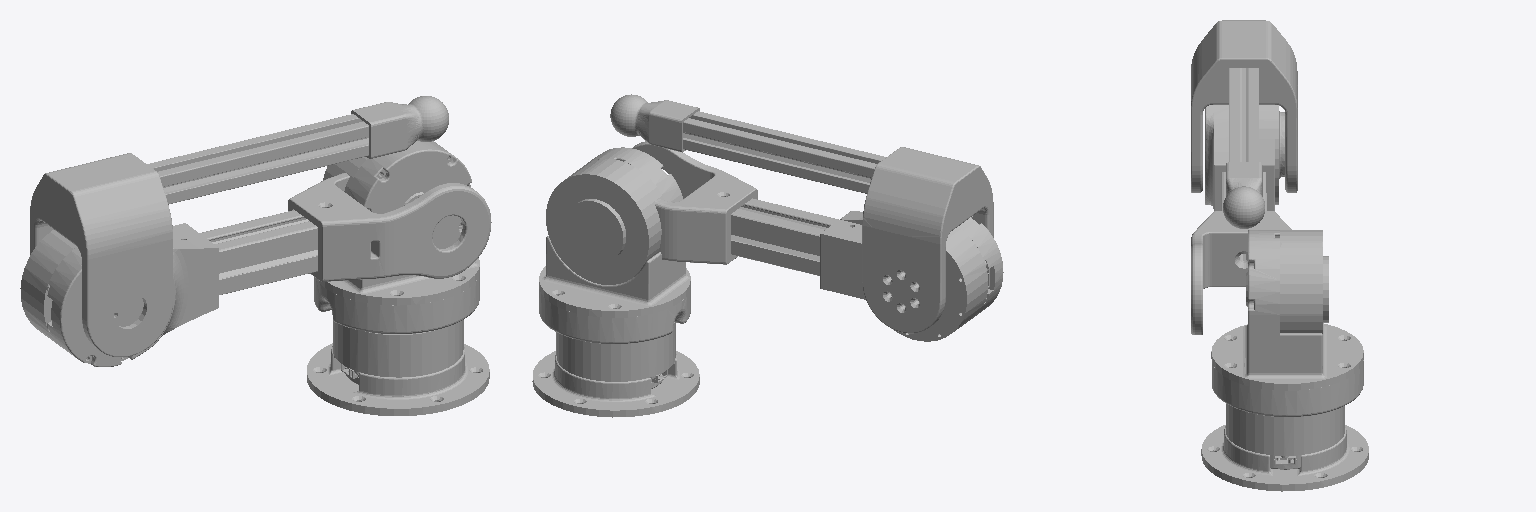
robot.urdf — RAVEN_reassembly:
<?xml version="1.0" encoding="utf-8"?>
<!-- This URDF was automatically created by SolidWorks to URDF Exporter! Originally created by Stephen Brawner (brawner@gmail.com) 
     Commit Version: 1.6.0-4-g7f85cfe  Build Version: 1.6.7995.38578
     For more information, please see http://wiki.ros.org/sw_urdf_exporter -->
<robot
  name="RAVEN_reassembly">
  <link
    name="base_link">
    <inertial>
      <origin
        xyz="0.0001453 -7.3232E-07 0.02219"
        rpy="0 0 0" />
      <mass
        value="0.24946" />
      <inertia
        ixx="0.00014181"
        ixy="6.28E-09"
        ixz="-2.6684E-07"
        iyy="0.00013613"
        iyz="1.232E-09"
        izz="0.00022186" />
    </inertial>
    <visual>
      <origin
        xyz="0 0 0"
        rpy="0 0 0" />
      <geometry>
        <mesh
          filename="../meshes/base_link.STL" />
      </geometry>
      <material
        name="">
        <color
          rgba="0.75294 0.75294 0.75294 1" />
      </material>
    </visual>
    <collision>
      <origin
        xyz="0 0 0"
        rpy="0 0 0" />
      <geometry>
        <mesh
          filename="../meshes/base_link.STL" />
      </geometry>
    </collision>
  </link>
  <link
    name="shoulder_link">
    <inertial>
      <origin
        xyz="0.00016679 -0.00027549 -0.023903"
        rpy="0 0 0" />
      <mass
        value="0.4346" />
      <inertia
        ixx="0.00030526"
        ixy="-2.0276E-10"
        ixz="2.2449E-07"
        iyy="0.00038654"
        iyz="2.4833E-05"
        izz="0.00039063" />
    </inertial>
    <visual>
      <origin
        xyz="0 0 0"
        rpy="0 0 0" />
      <geometry>
        <mesh
          filename="../meshes/shoulder_link.STL" />
      </geometry>
      <material
        name="">
        <color
          rgba="0.75294 0.75294 0.75294 1" />
      </material>
    </visual>
    <collision>
      <origin
        xyz="0 0 0"
        rpy="0 0 0" />
      <geometry>
        <mesh
          filename="../meshes/shoulder_link.STL" />
      </geometry>
    </collision>
  </link>
  <joint
    name="shoulder_yaw"
    type="revolute">
    <origin
      xyz="0 0 0.1205"
      rpy="0 0 0" />
    <parent
      link="base_link" />
    <child
      link="shoulder_link" />
    <axis
      xyz="0 0 1" />
    <limit
      lower="-3.14"
      upper="3.14"
      effort="17"
      velocity="0" />
  </joint>
  <link
    name="upperArm_link">
    <inertial>
      <origin
        xyz="-0.16504 0.00047438 3.2793E-08"
        rpy="0 0 0" />
      <mass
        value="0.38582" />
      <inertia
        ixx="0.00023872"
        ixy="-2.5122E-05"
        ixz="3.1395E-10"
        iyy="0.00037986"
        iyz="1.5385E-10"
        izz="0.00037655" />
    </inertial>
    <visual>
      <origin
        xyz="0 0 0"
        rpy="0 0 0" />
      <geometry>
        <mesh
          filename="../meshes/upperArm_link.STL" />
      </geometry>
      <material
        name="">
        <color
          rgba="0.75294 0.75294 0.75294 1" />
      </material>
    </visual>
    <collision>
      <origin
        xyz="0 0 0"
        rpy="0 0 0" />
      <geometry>
        <mesh
          filename="../meshes/upperArm_link.STL" />
      </geometry>
    </collision>
  </link>
  <joint
    name="upperArm_pitch"
    type="revolute">
    <origin
      xyz="0 0 0"
      rpy="0 0 0" />
    <parent
      link="shoulder_link" />
    <child
      link="upperArm_link" />
    <axis
      xyz="0 1 0" />
    <limit
      lower="0"
      upper="3.14"
      effort="17"
      velocity="0" />
  </joint>
  <link
    name="foreArm_link">
    <inertial>
      <origin
        xyz="0.016262 0.00062007 0.041839"
        rpy="0 0 0" />
      <mass
        value="0.16941" />
      <inertia
        ixx="0.00021126"
        ixy="8.6409E-12"
        ixz="-2.3572E-10"
        iyy="0.00031247"
        iyz="3.9576E-06"
        izz="0.00028419" />
    </inertial>
    <visual>
      <origin
        xyz="0 0 0"
        rpy="0 0 0" />
      <geometry>
        <mesh
          filename="../meshes/foreArm_link.STL" />
      </geometry>
      <material
        name="">
        <color
          rgba="0.75294 0.75294 0.75294 1" />
      </material>
    </visual>
    <collision>
      <origin
        xyz="0 0 0"
        rpy="0 0 0" />
      <geometry>
        <mesh
          filename="../meshes/foreArm_link.STL" />
      </geometry>
    </collision>
  </link>
  <joint
    name="foreArm_pitch"
    type="revolute">
    <origin
      xyz="-0.22125 0 0"
      rpy="0 0 0" />
    <parent
      link="upperArm_link" />
    <child
      link="foreArm_link" />
    <axis
      xyz="0 -1 0" />
    <limit
      lower="0"
      upper="3.14"
      effort="17"
      velocity="0" />
  </joint>
</robot>

--- Render facts (derived) ---
3 views of the same robot in one strip: view 1: azimuth 30°, elevation 25°; view 2: azimuth 150°, elevation 25°; view 3: azimuth 270°, elevation 25° (orthographic).
Robot: RAVEN_reassembly — 4 links, 3 joints (3 revolute); root link base_link; default pose: every joint at zero.
Links seen in each view (by area): view 1: foreArm_link, upperArm_link, shoulder_link, base_link; view 2: foreArm_link, shoulder_link, upperArm_link, base_link; view 3: shoulder_link, foreArm_link, base_link, upperArm_link.
Link boxes in pixels (x1,y1,x2,y2): foreArm_link: (30, 96, 448, 356); upperArm_link: (20, 173, 491, 366); shoulder_link: (314, 141, 479, 333); base_link: (307, 320, 489, 415); foreArm_link: (610, 94, 993, 333); shoulder_link: (539, 147, 690, 343); upperArm_link: (632, 141, 1003, 341); base_link: (532, 322, 699, 417); shoulder_link: (1211, 230, 1363, 416); foreArm_link: (1191, 20, 1297, 228); base_link: (1201, 404, 1368, 491); upperArm_link: (1191, 105, 1291, 334).
Bounding box of the posed robot: 0.3192 × 0.117 × 0.1985 m (x, y, z).
4 mesh visuals loaded from 4 distinct referenced files (4 binary STL).
